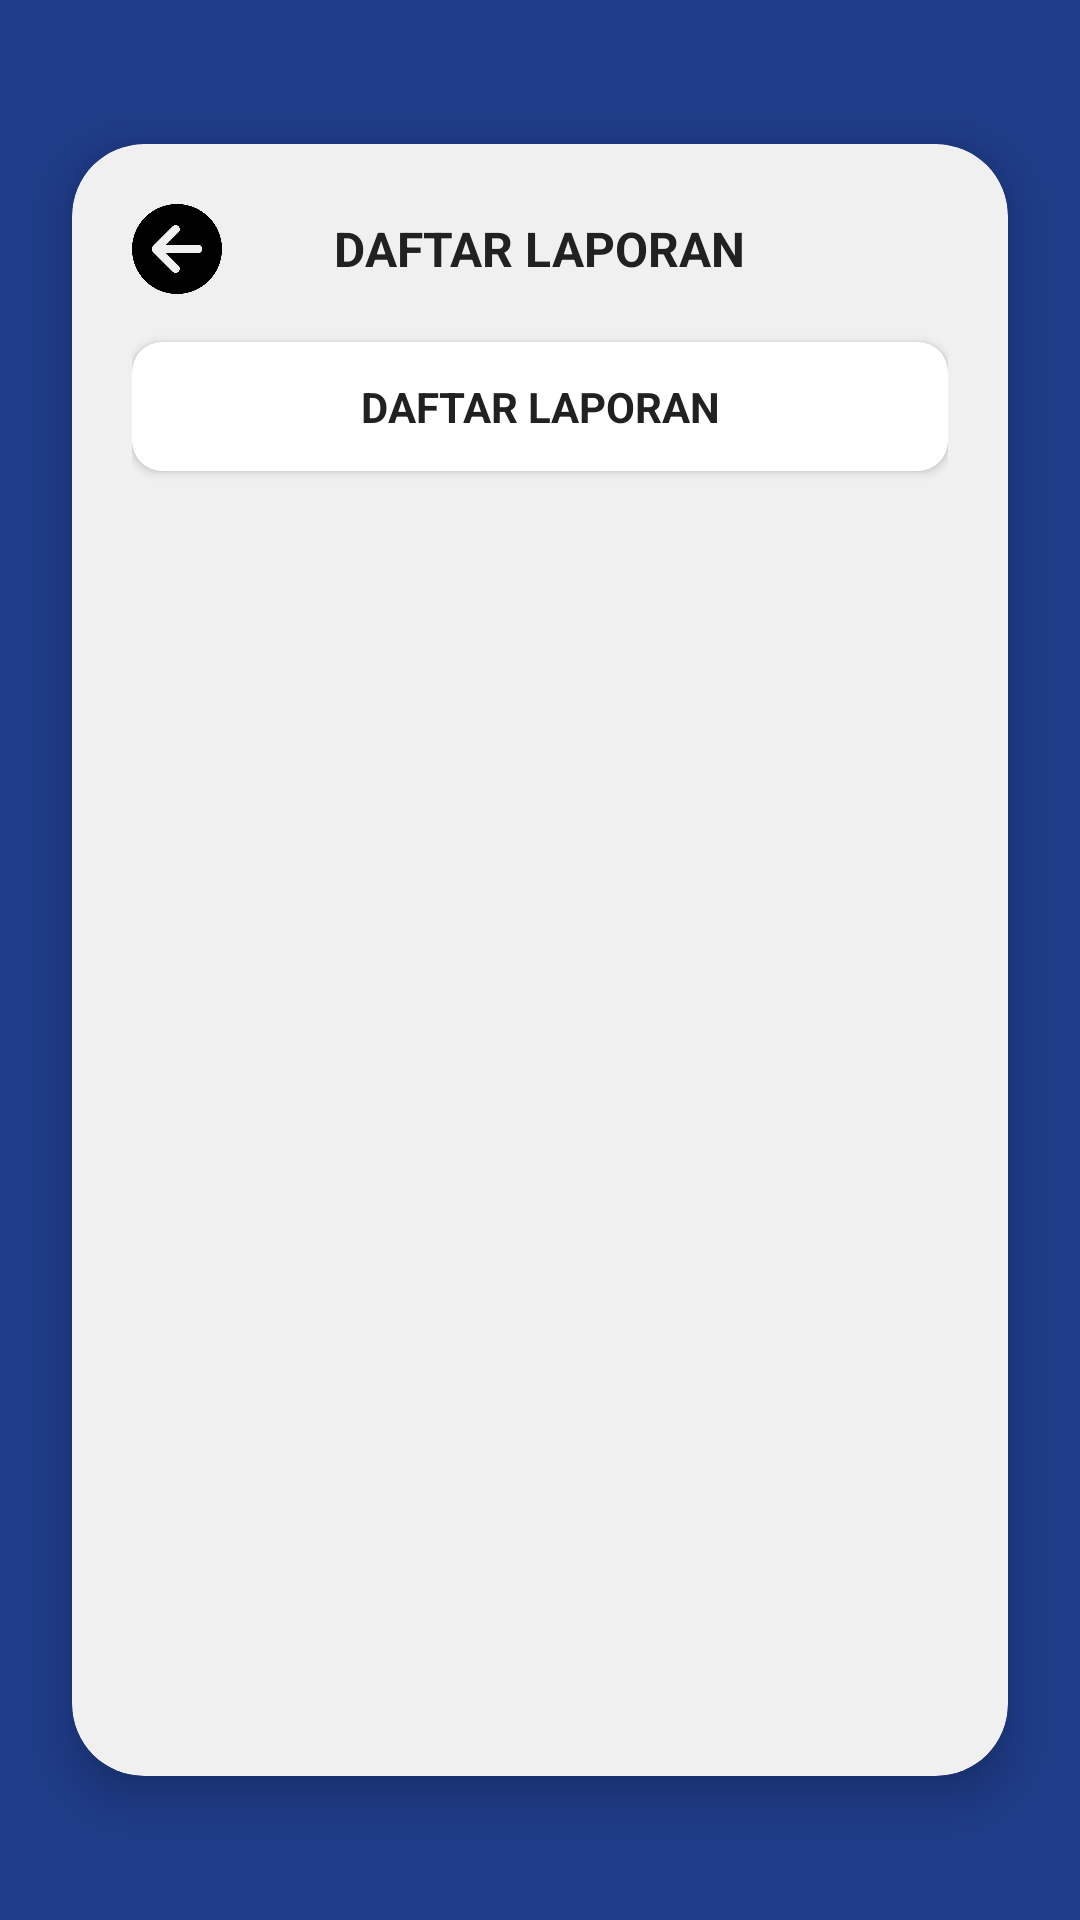

Named icons in this screenshot (1080 × 1920) and their bounding boxes, (x1, y1, x2, y2):
Back: (132, 204, 222, 294)
